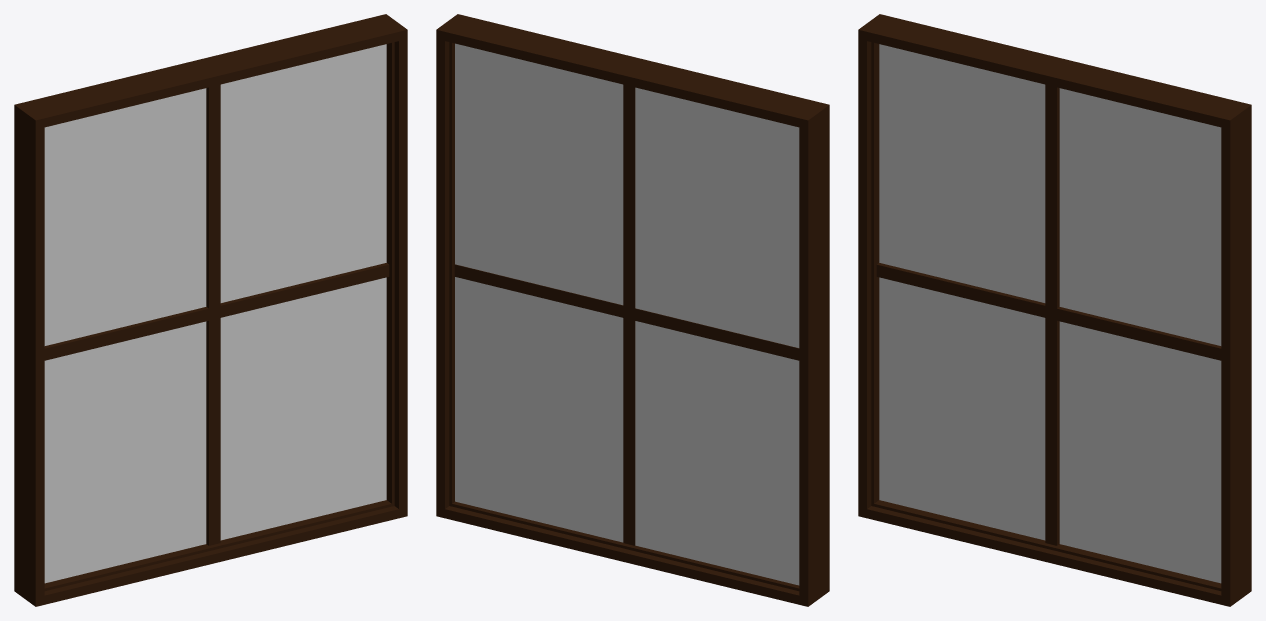
File: Window_Modular.fbx
3 views of the same model, side by side, from view 1: azimuth 30°, elevation 25°; view 2: azimuth 150°, elevation 25°; view 3: azimuth 330°, elevation 25° (orthographic).
Parts seen in each view (by area): view 1: Glass, Frame, Vertical, Horizontal; view 2: Glass, Frame, Vertical, Horizontal; view 3: Glass, Frame, Vertical, Horizontal.
Part boxes in pixels (x1=…): Glass: x1=44, y1=44, x2=386, y2=583; Frame: x1=14, y1=14, x2=407, y2=606; Vertical: x1=206, y1=84, x2=220, y2=545; Horizontal: x1=44, y1=263, x2=389, y2=360; Glass: x1=455, y1=43, x2=799, y2=585; Frame: x1=436, y1=14, x2=829, y2=606; Vertical: x1=623, y1=84, x2=635, y2=545; Horizontal: x1=454, y1=264, x2=799, y2=360; Glass: x1=879, y1=44, x2=1221, y2=583; Frame: x1=858, y1=14, x2=1251, y2=606; Vertical: x1=1045, y1=84, x2=1059, y2=545; Horizontal: x1=876, y1=263, x2=1221, y2=360.
Size of the model in its own units: 100 by 125 by 10.
